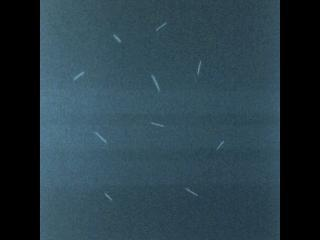scratch: (91, 130, 108, 146), (183, 185, 201, 198), (212, 137, 225, 154), (150, 73, 161, 93), (193, 59, 202, 81), (72, 69, 86, 81), (103, 190, 115, 202), (156, 22, 168, 32), (112, 33, 122, 43), (151, 121, 166, 127)
